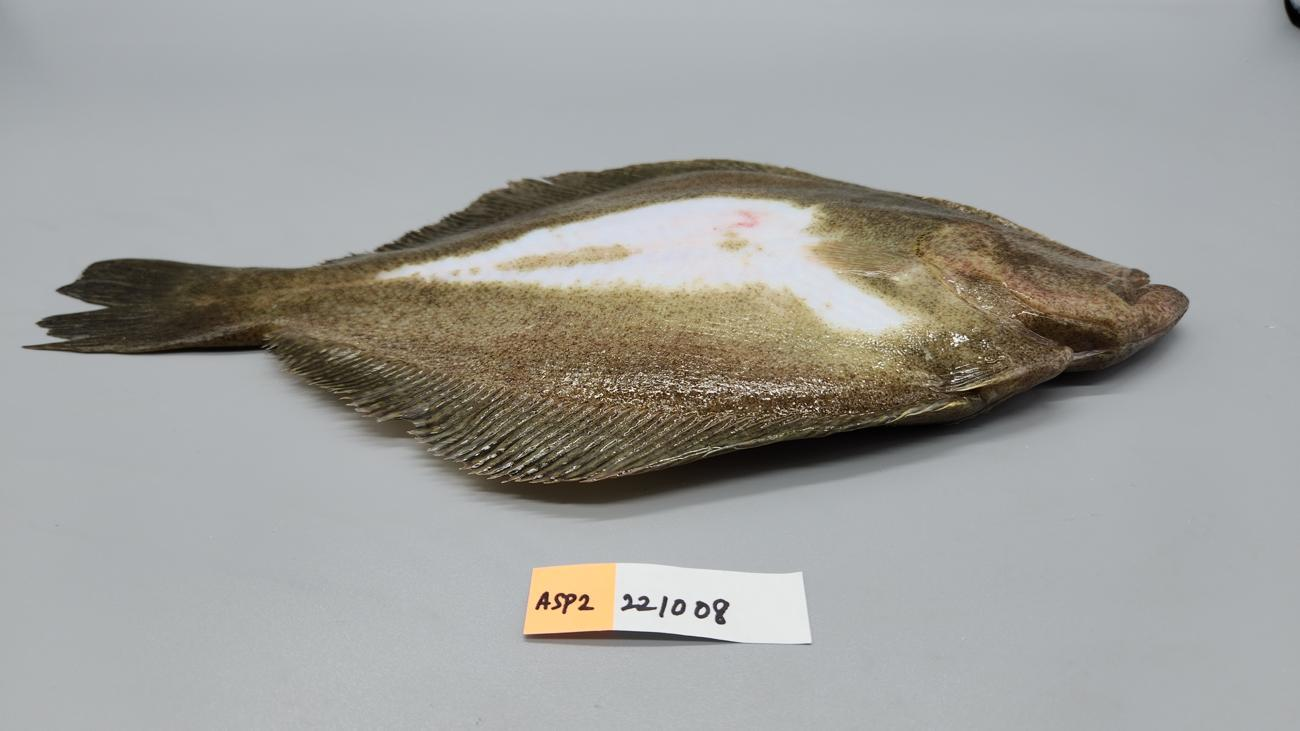SPOUY: (13, 155, 1198, 514)
